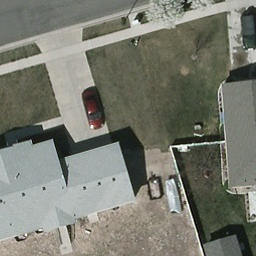car: (81, 90, 105, 130)
